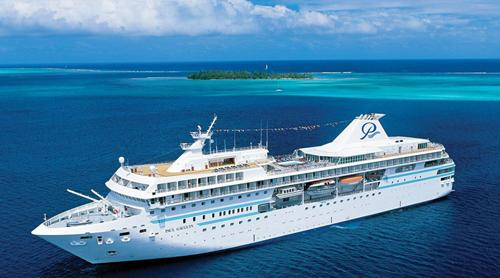youlun: (32, 100, 458, 265)
